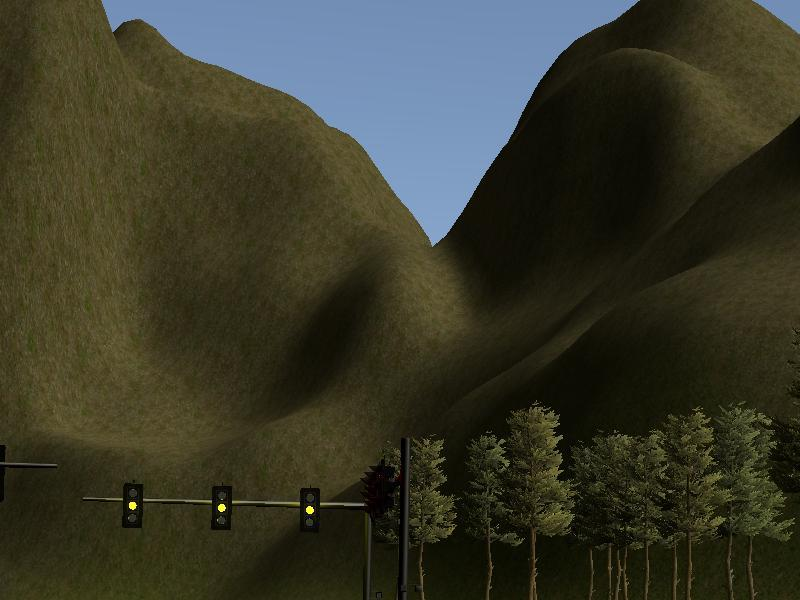Yellow: (212, 485, 233, 531), (299, 487, 320, 531), (123, 483, 142, 528)
